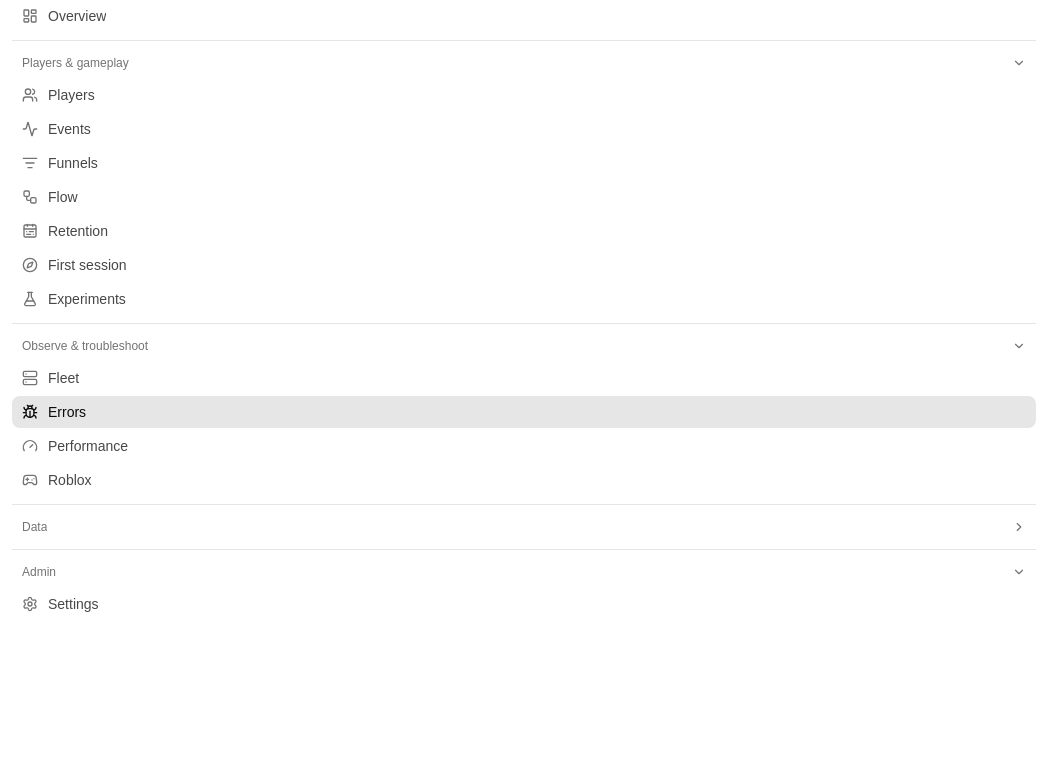
Test: sidebar › opens the group of the page you land on, but lets you close it after
Check: the link "Errors" is shown, box [12,396,1036,428]
Click the button "Observe & troubleshoot".
click(85, 346)  # box [12,332,1036,360]
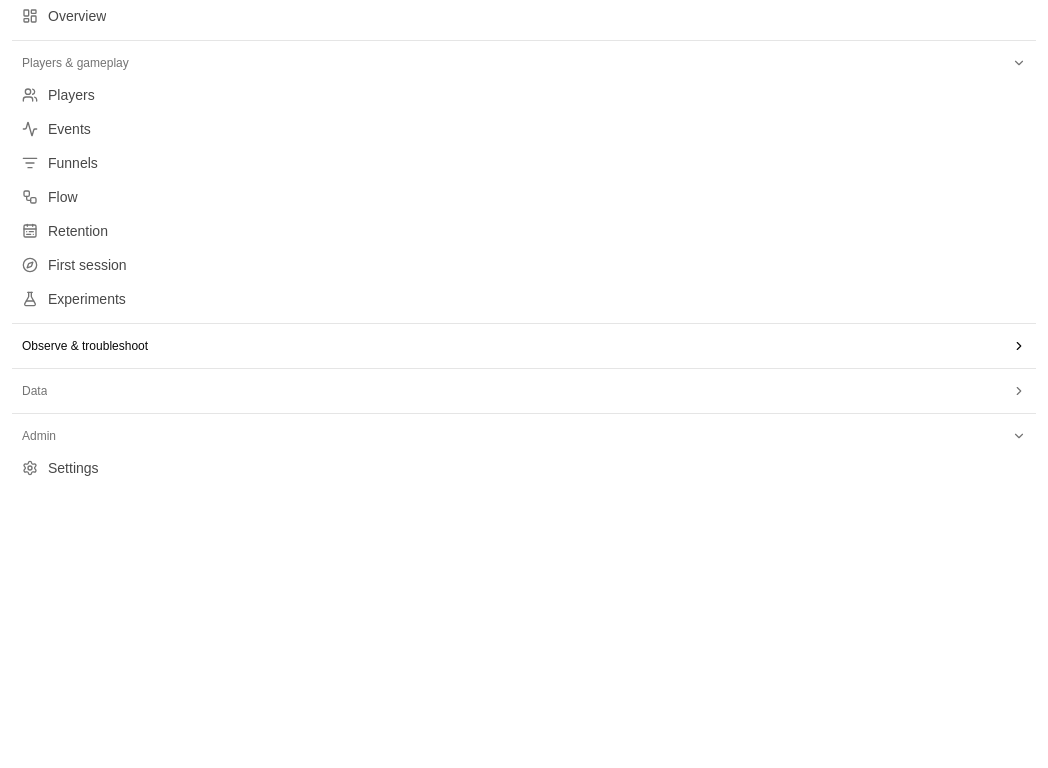
Check: the button "Observe & troubleshoot" is collapsed, box [12,332,1036,360]
